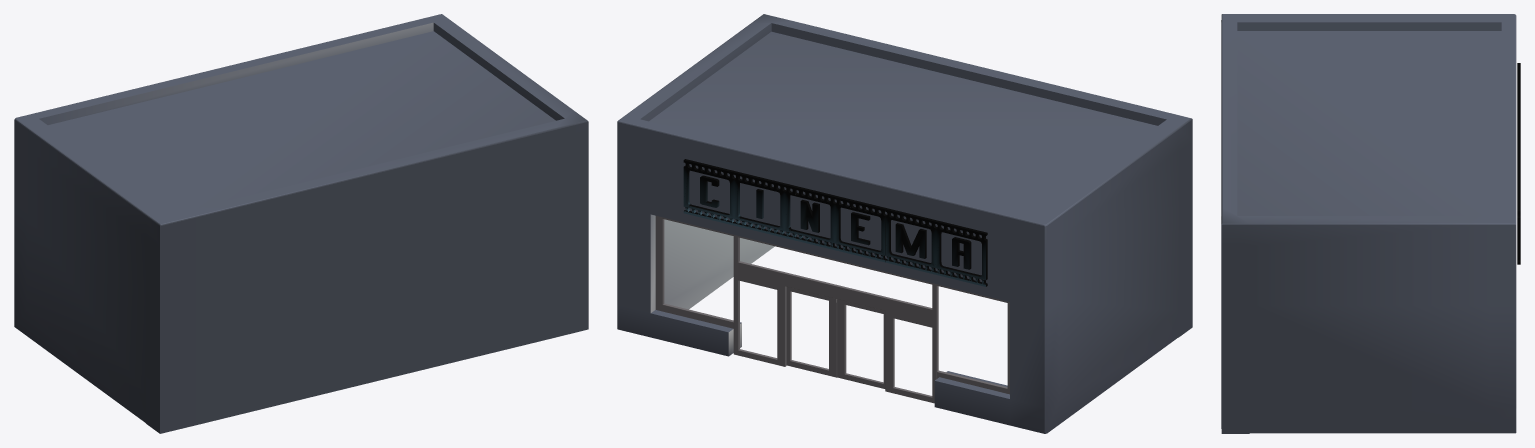
File: Cinema.fbx
3 renders of one model, left to right at view 1: azimuth 30°, elevation 25°; view 2: azimuth 150°, elevation 25°; view 3: azimuth 270°, elevation 25°, orthographic.
Parts seen in each view (by area): view 1: Cube.003; view 2: Cube.003, Text, Cube.002, Cube.005, Cube.006; view 3: Cube.003, Text.
Boxes of the visible parts, bbox=[...] form: Cube.003: bbox=[14, 14, 588, 433]; Cube.003: bbox=[617, 14, 1192, 433]; Text: bbox=[683, 159, 987, 286]; Cube.002: bbox=[655, 216, 1009, 403]; Cube.005: bbox=[786, 287, 837, 377]; Cube.006: bbox=[837, 299, 885, 388]; Cube.003: bbox=[1221, 14, 1516, 433]; Text: bbox=[1517, 63, 1520, 264].
Bounding box in the file's own units: 2179 × 1019 × 1311.
